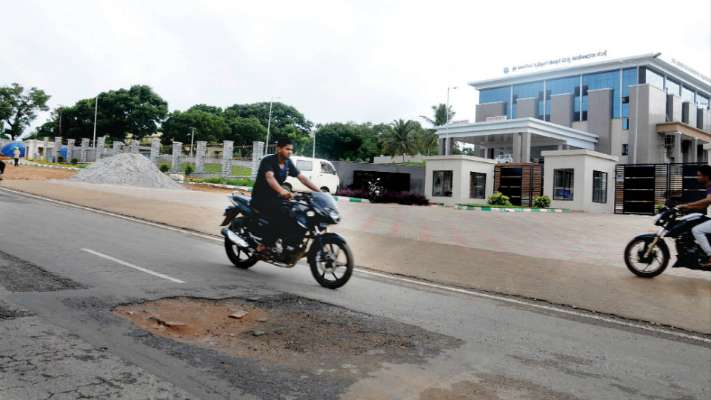pothole: (105, 276, 385, 373)
